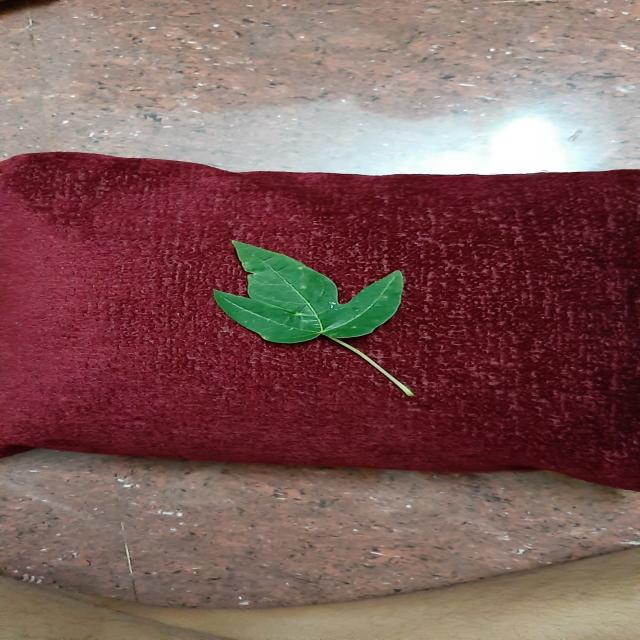papaya: (214, 241, 415, 396)
